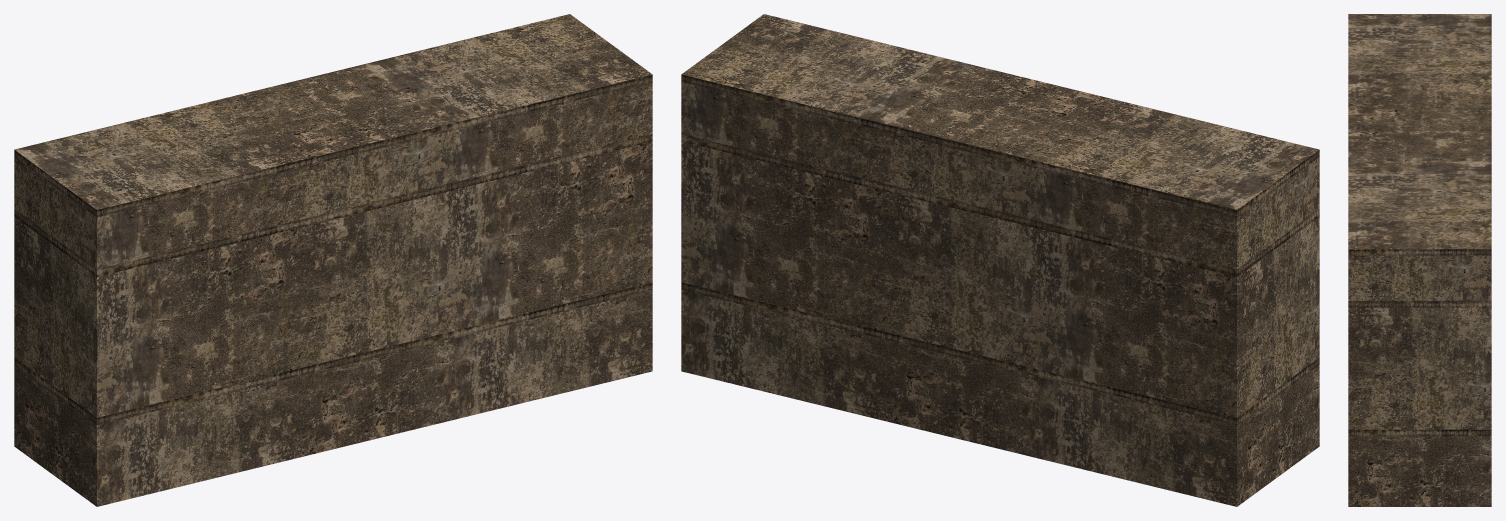
File: materials_5_stairblock_6.fbx
3 renders of one model, left to right at view 1: azimuth 30°, elevation 25°; view 2: azimuth 150°, elevation 25°; view 3: azimuth 270°, elevation 25°, orthographic. The views are drawn at different scales.
Parts seen in each view (by area): view 1: materials_5_stairblock_6; view 2: materials_5_stairblock_6; view 3: materials_5_stairblock_6.
Part boxes in pixels (x1,y1,x2,y2): materials_5_stairblock_6: (14,14,652,506); materials_5_stairblock_6: (681,14,1319,506); materials_5_stairblock_6: (1348,14,1491,506).
Bounding box in the file's own units: 407 × 208 × 105.
